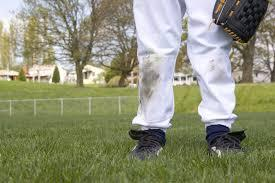earth: (142, 62, 156, 97)
